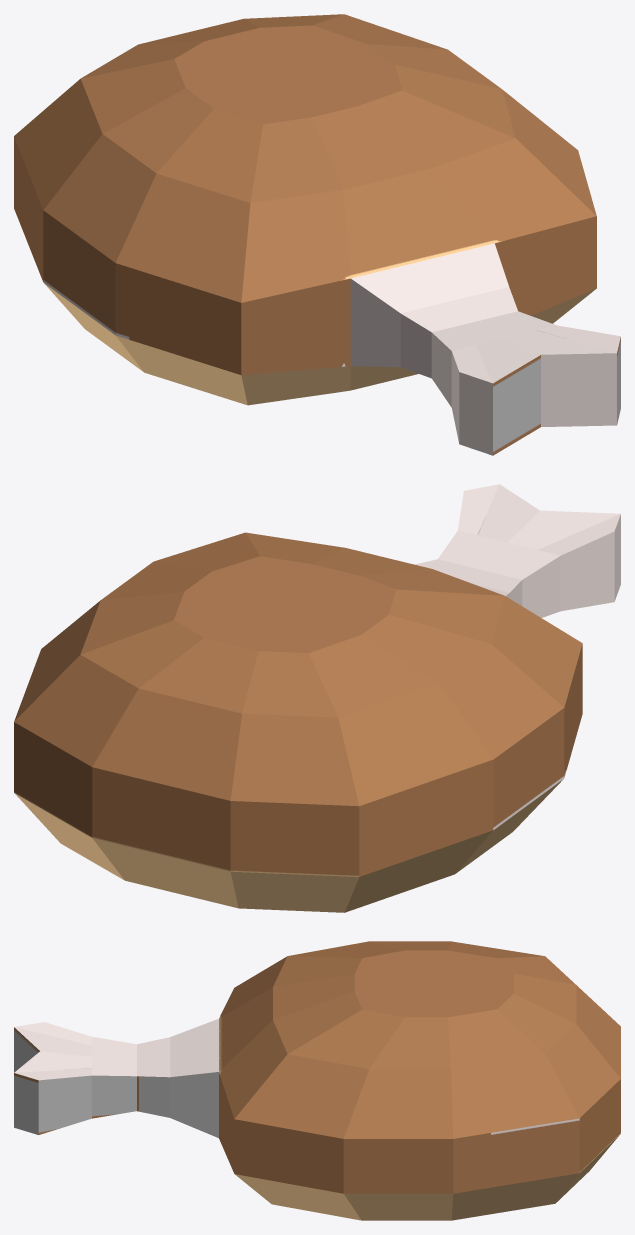
The model's file is Chicken Fix.fbx.
The picture shows the model from 3 angles, top to bottom: view 1: azimuth 30°, elevation 25°; view 2: azimuth 150°, elevation 25°; view 3: azimuth 270°, elevation 25°; orthographic projection. The views are drawn at different scales.
Visible parts, largest first — view 1: Plane; view 2: Plane; view 3: Plane.
Boxes of the visible parts, left/top/right/bottom form: Plane: left=14, top=14, right=620, bottom=455; Plane: left=14, top=484, right=620, bottom=912; Plane: left=14, top=941, right=620, bottom=1220.
Bounding box in the file's own units: 100 × 50 × 150.
1 material, 1 textured.
